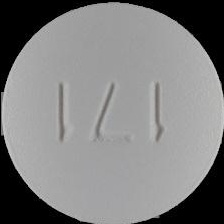0378-7101: (0, 0, 224, 224)
